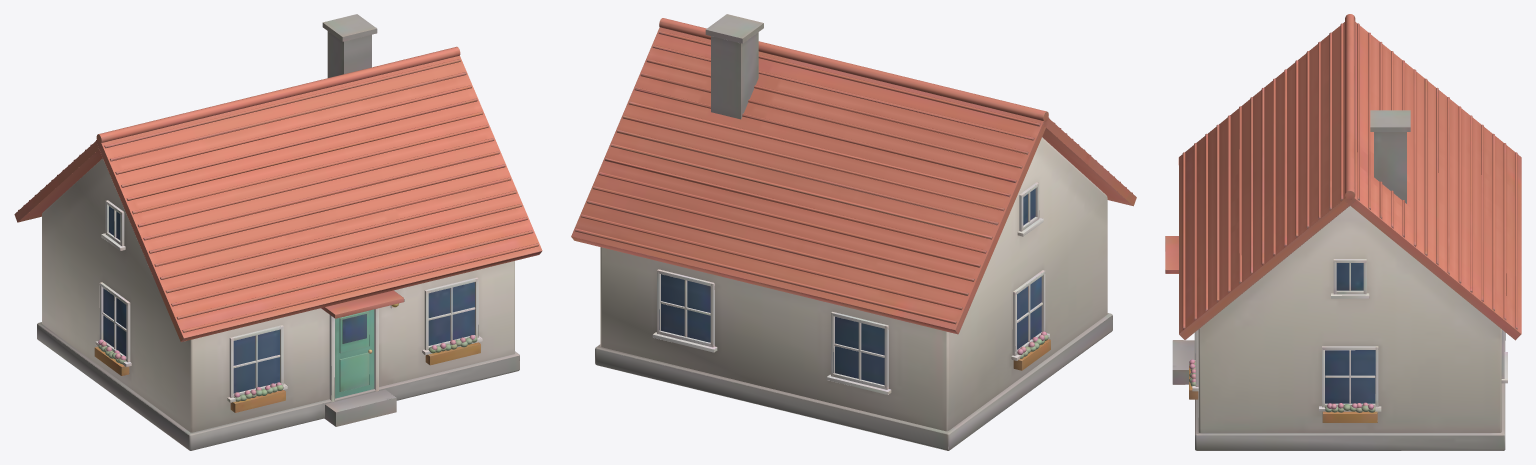
The model's file is cottage-house.glb.
3 renders of one model, left to right at view 1: azimuth 30°, elevation 25°; view 2: azimuth 150°, elevation 25°; view 3: azimuth 270°, elevation 25°, orthographic. The views are drawn at different scales.
Parts seen in each view (by area): view 1: cottage-house_body; view 2: cottage-house_body; view 3: cottage-house_body.
Boxes of the visible parts, box(x1,y1,x2,y2) form: cottage-house_body: box(14, 14, 542, 450); cottage-house_body: box(571, 14, 1136, 450); cottage-house_body: box(1165, 14, 1521, 450).
Size of the model in its own units: 8.84 by 6.9 by 7.51.
1 material, 1 textured.
